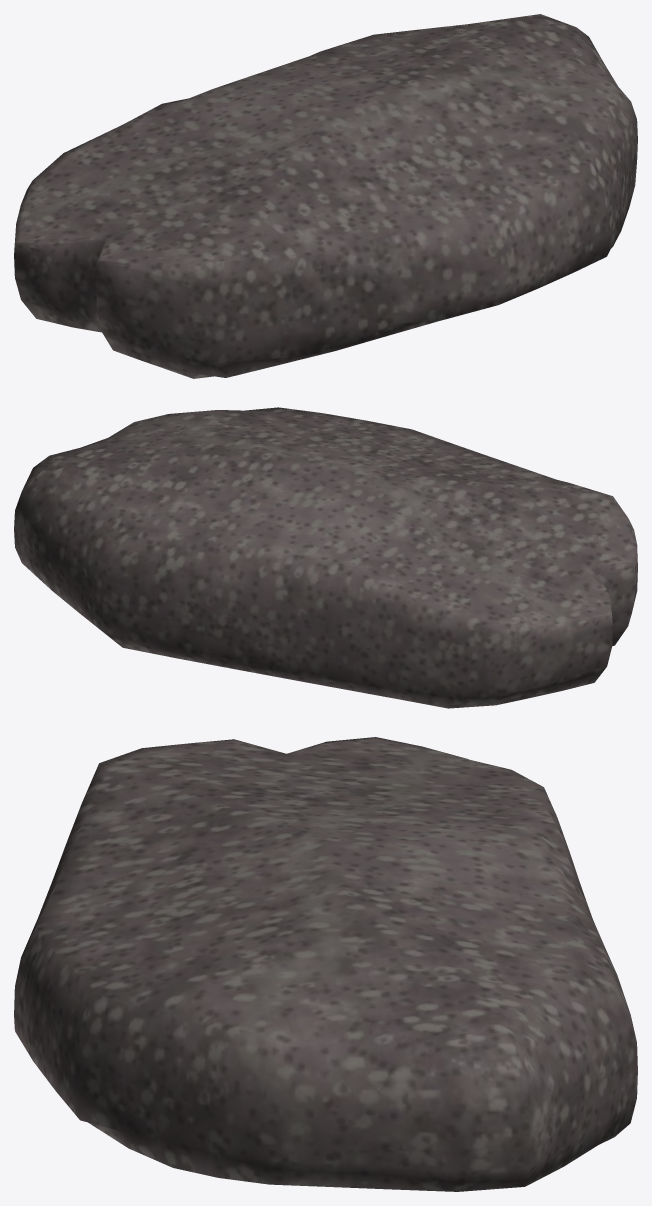
The model's file is jagged_gravel_08.glb.
The picture shows the model from 3 angles, top to bottom: view 1: azimuth 30°, elevation 25°; view 2: azimuth 150°, elevation 25°; view 3: azimuth 270°, elevation 25°; orthographic projection. The views are drawn at different scales.
Parts seen in each view (by area): view 1: jagged_gravel_08; view 2: jagged_gravel_08; view 3: jagged_gravel_08.
Part boxes in pixels (x1,y1,x2,y2): jagged_gravel_08: [14, 14, 637, 378]; jagged_gravel_08: [14, 407, 637, 708]; jagged_gravel_08: [14, 737, 637, 1191].
Bounding box in the file's own units: 0.0684 × 0.0204 × 0.0449.
Materials: 1 (1 with a texture image).
